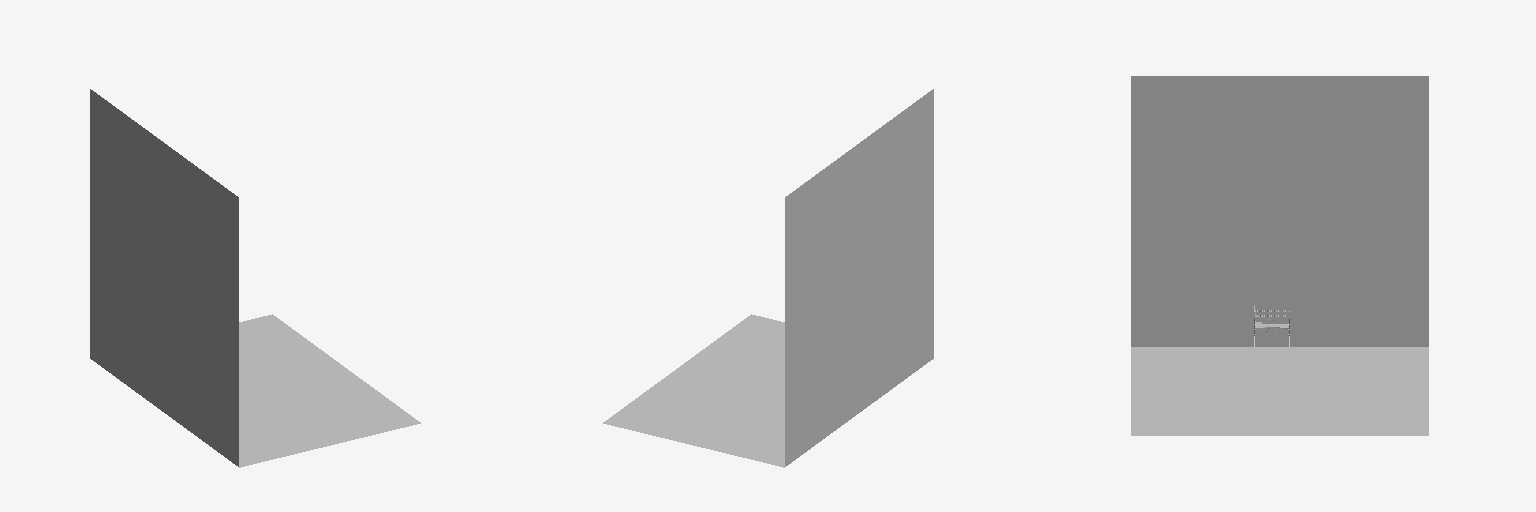
The model's file is Lofted_Bed.obj.
3 views of the same model, side by side, from view 1: azimuth 30°, elevation 25°; view 2: azimuth 150°, elevation 25°; view 3: azimuth 270°, elevation 25° (orthographic).
Visible parts, largest first — view 1: Plane; view 2: Plane; view 3: Plane.
Boxes of the visible parts, <box> form: Plane: <box>90,89,420,467</box>; Plane: <box>603,89,933,467</box>; Plane: <box>1131,76,1428,435</box>.
Bounding box in the file's own units: 80.45 × 114 × 114.